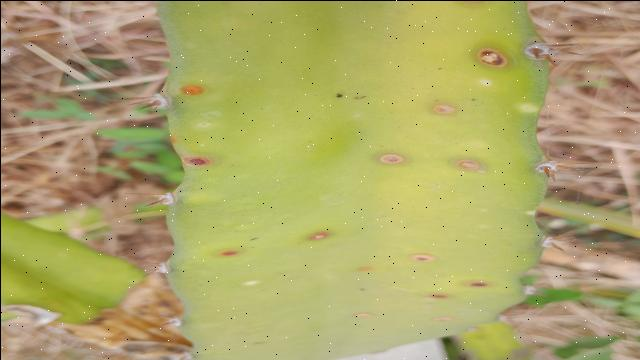stemcanker: (177, 149, 216, 173), (473, 46, 509, 71), (426, 99, 463, 122), (449, 156, 488, 177), (173, 81, 213, 98), (376, 149, 409, 169), (212, 246, 246, 262), (465, 277, 500, 292), (303, 229, 335, 245), (412, 250, 439, 265)
